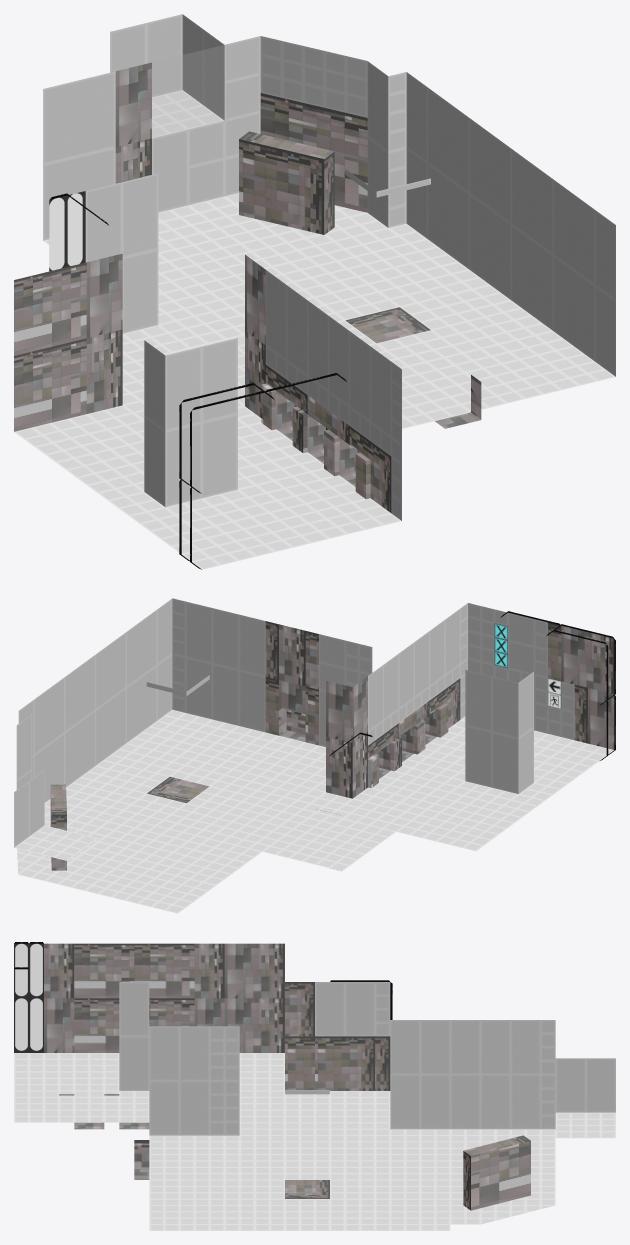
File: portal-test-chamber-nolaser.glb
3 views of the same model, one above another, from view 1: azimuth 30°, elevation 25°; view 2: azimuth 150°, elevation 25°; view 3: azimuth 270°, elevation 25° (orthographic). The views are drawn at different scales.
Parts seen in each view (by area): view 1: White-material, Floor-material.001, Dark-material, Room-material, Glass-material, Light-material, Dark-material.002, Light-material.001; view 2: Floor-material.001, White-material, Dark-material, Room-material, Display-material, Dark-material.002, Light-material, Light-material.001; view 3: Floor-material.001, White-material, Dark-material, Room-material, Light-material, Glass-material, Dark-material.002.
Boxes of the visible parts, bbox=[...] form: White-material: bbox=[43, 36, 615, 520]; Floor-material.001: bbox=[14, 193, 615, 569]; Dark-material: bbox=[14, 62, 481, 512]; Room-material: bbox=[110, 14, 224, 138]; Glass-material: bbox=[50, 45, 224, 270]; Light-material: bbox=[49, 191, 201, 569]; Dark-material.002: bbox=[345, 307, 430, 343]; Light-material.001: bbox=[50, 193, 346, 410]; Floor-material.001: bbox=[17, 710, 613, 913]; White-material: bbox=[16, 598, 574, 802]; Dark-material: bbox=[50, 621, 614, 870]; Room-material: bbox=[14, 770, 97, 860]; Display-material: bbox=[494, 623, 561, 708]; Dark-material.002: bbox=[147, 777, 209, 803]; Light-material: bbox=[600, 639, 615, 760]; Light-material.001: bbox=[329, 611, 613, 755]; Floor-material.001: bbox=[14, 1053, 555, 1230]; White-material: bbox=[119, 982, 555, 1135]; Dark-material: bbox=[44, 943, 530, 1210]; Room-material: bbox=[555, 1058, 615, 1138]; Light-material: bbox=[14, 943, 392, 1052]; Glass-material: bbox=[14, 944, 43, 1052]; Dark-material.002: bbox=[285, 1180, 329, 1198].
Bounding box in the file's own units: 17.6 × 5.1 × 25.
7 materials, 5 textured.
